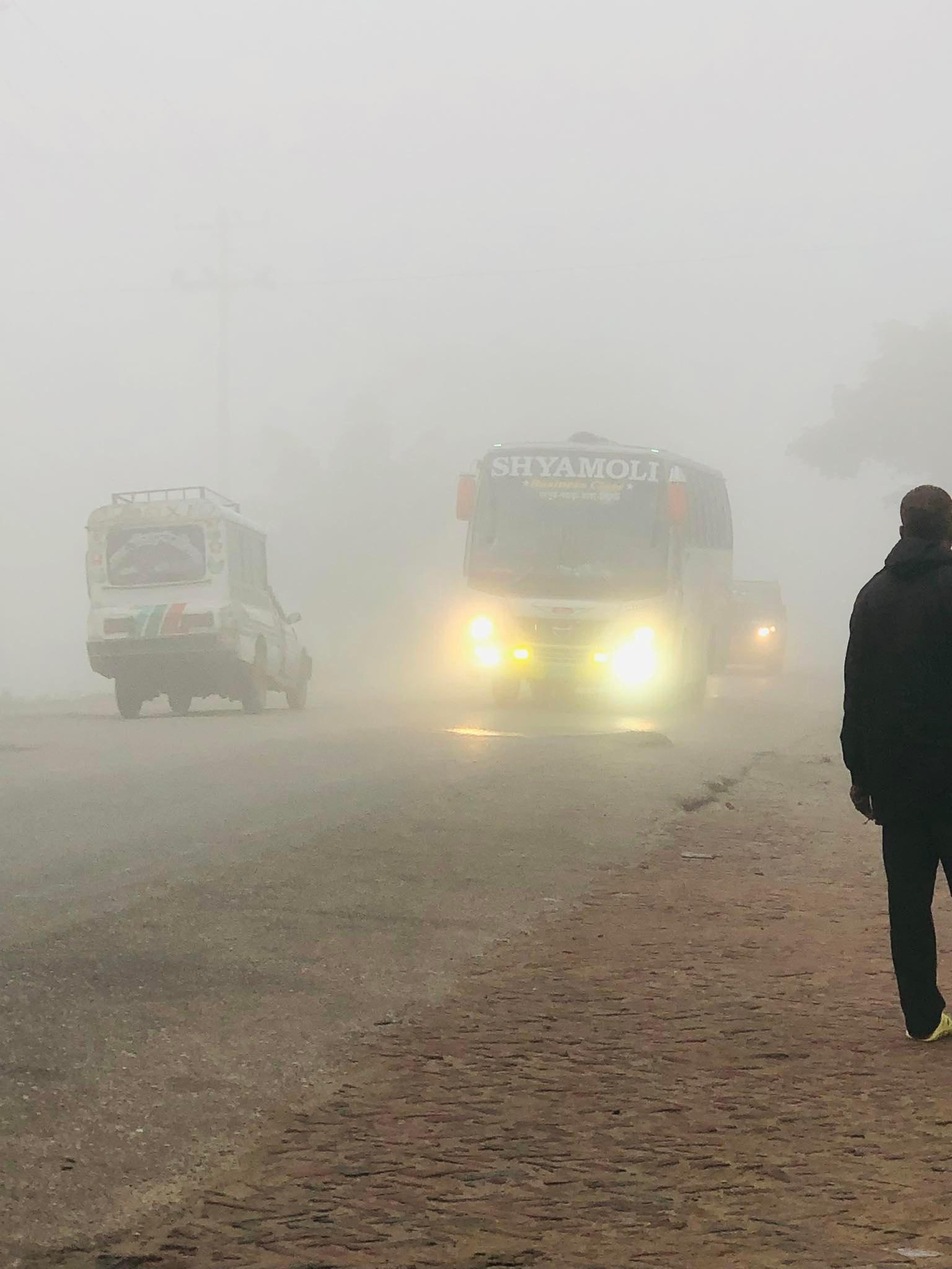Bus: (432, 401, 744, 727)
Car: (69, 447, 341, 731)
